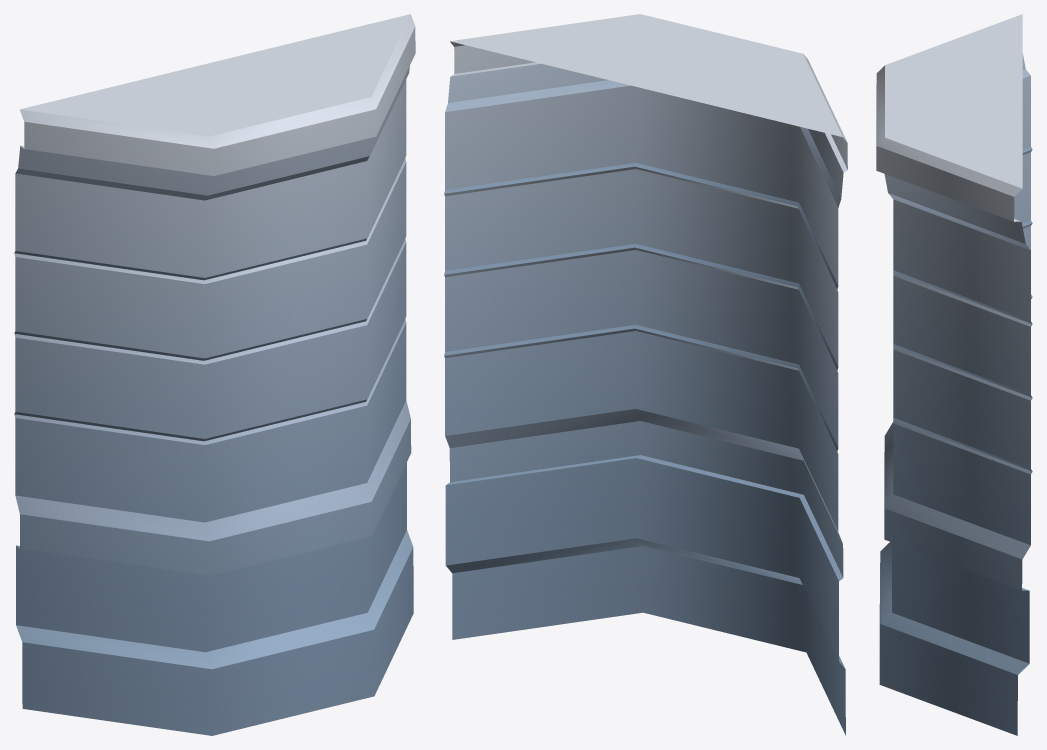
The model's file is Pillar 02.fbx.
3 views of the same model, side by side, from view 1: azimuth 30°, elevation 25°; view 2: azimuth 150°, elevation 25°; view 3: azimuth 270°, elevation 25° (orthographic). The views are drawn at different scales.
Parts seen in each view (by area): view 1: Pillar 02.001; view 2: Pillar 02.001; view 3: Pillar 02.001.
Part boxes in pixels (left/top/right/bottom): Pillar 02.001: left=14, top=14, right=415, bottom=735; Pillar 02.001: left=444, top=14, right=847, bottom=735; Pillar 02.001: left=876, top=14, right=1032, bottom=735.
Bounding box in the file's own units: 200 × 292 × 75.66.
